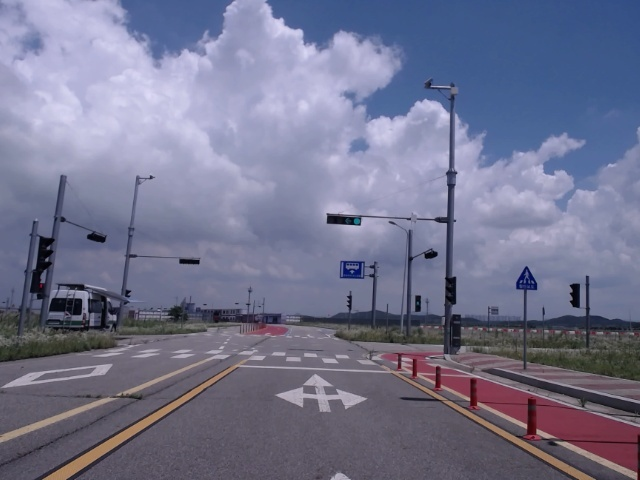all_green_4: (328, 212, 364, 226)
